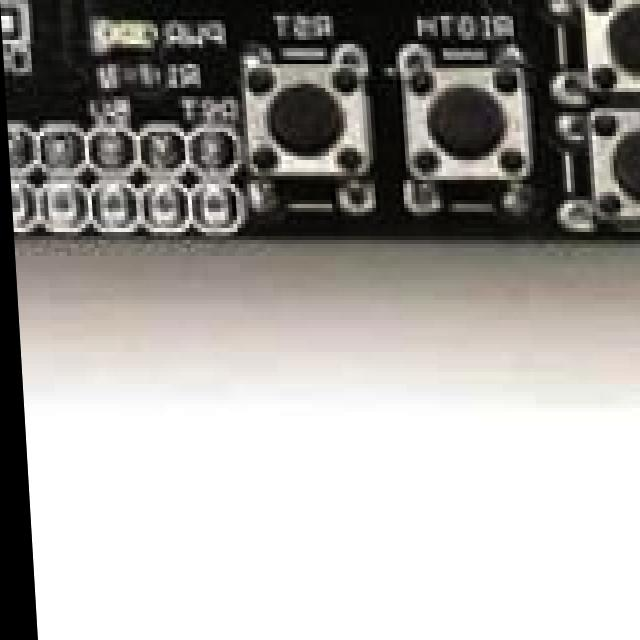LED: (95, 20, 175, 54)
resistor: (92, 52, 169, 100)
switch: (230, 36, 370, 210), (395, 64, 530, 214), (557, 112, 640, 232), (572, 0, 640, 96)
